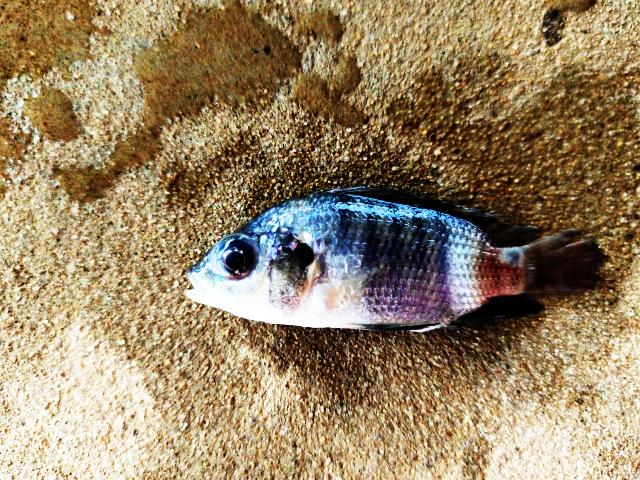Aeromonas Septicemia: (186, 187, 602, 332), (186, 187, 602, 332)
